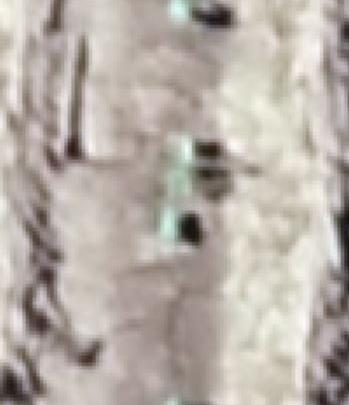cotton: (178, 138, 194, 160), (164, 215, 177, 240), (173, 1, 191, 17)
